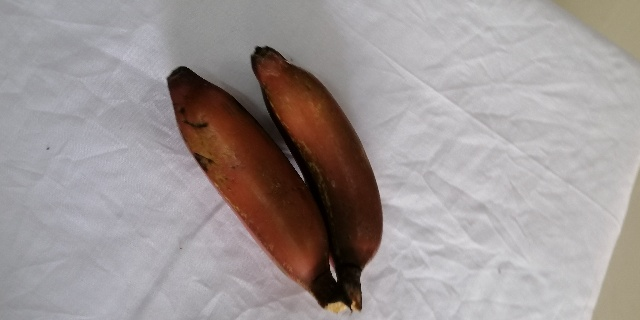banana_red: (165, 67, 350, 311), (250, 48, 384, 311)
